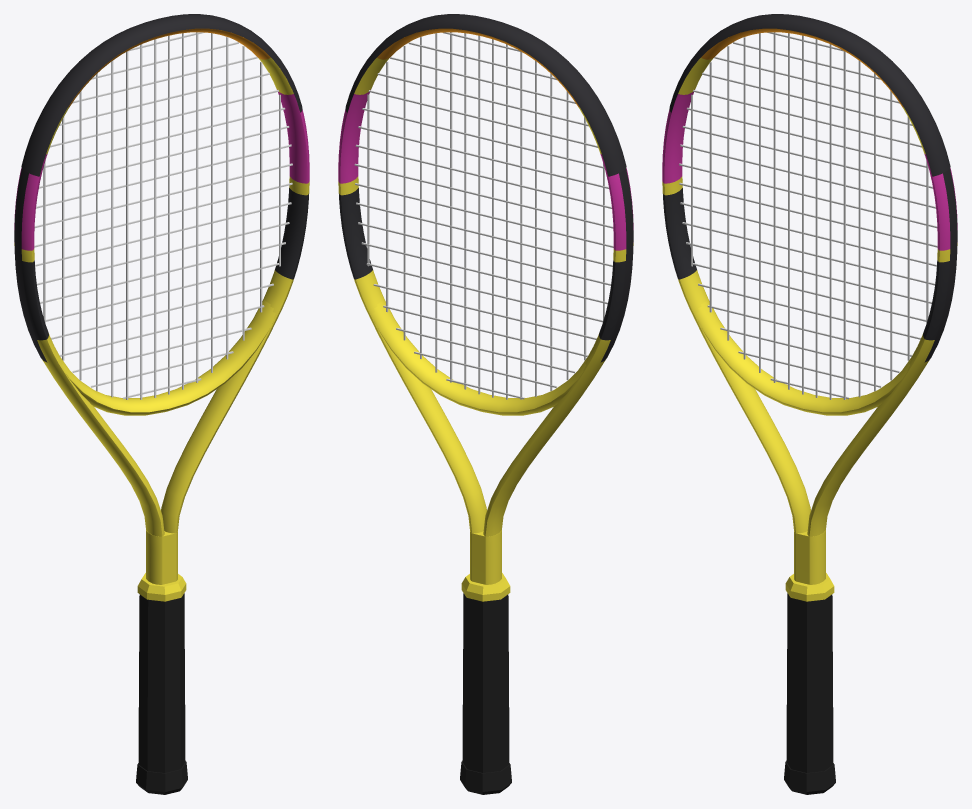
Rendered from babolat-pure-aero-rafa-lite-2021.glb.
The picture shows the model from 3 angles, left to right: view 1: azimuth 30°, elevation 25°; view 2: azimuth 150°, elevation 25°; view 3: azimuth 330°, elevation 25°; orthographic projection.
Parts seen in each view (by area): view 1: frame, strings_mains, strings_crosses, grip, bumper, grommets, butt_cap, collar; view 2: frame, strings_mains, strings_crosses, grip, bumper, grommets, butt_cap, collar; view 3: frame, strings_mains, strings_crosses, grip, bumper, grommets, butt_cap, collar.
Part boxes in pixels (box(x1,y1,x2,y2)): frame: box(14, 28, 309, 584); strings_mains: box(43, 32, 280, 399); strings_crosses: box(34, 32, 292, 399); grip: box(138, 593, 185, 772); bumper: box(21, 14, 302, 176); grommets: box(14, 168, 47, 362); butt_cap: box(136, 761, 187, 794); collar: box(137, 573, 186, 601); frame: box(338, 28, 633, 584); strings_mains: box(367, 32, 604, 399); strings_crosses: box(354, 32, 613, 399); grip: box(462, 593, 509, 772); bumper: box(345, 14, 626, 176); grommets: box(600, 168, 633, 362); butt_cap: box(460, 761, 511, 794); collar: box(461, 573, 510, 601); frame: box(662, 28, 957, 584); strings_mains: box(691, 32, 928, 399); strings_crosses: box(679, 32, 937, 399); grip: box(786, 593, 833, 772); bumper: box(669, 14, 950, 176); grommets: box(924, 168, 957, 362); butt_cap: box(784, 761, 835, 794); collar: box(785, 573, 834, 601).
Bounding box in the file's own units: 0.2718 × 0.6861 × 0.0396.
